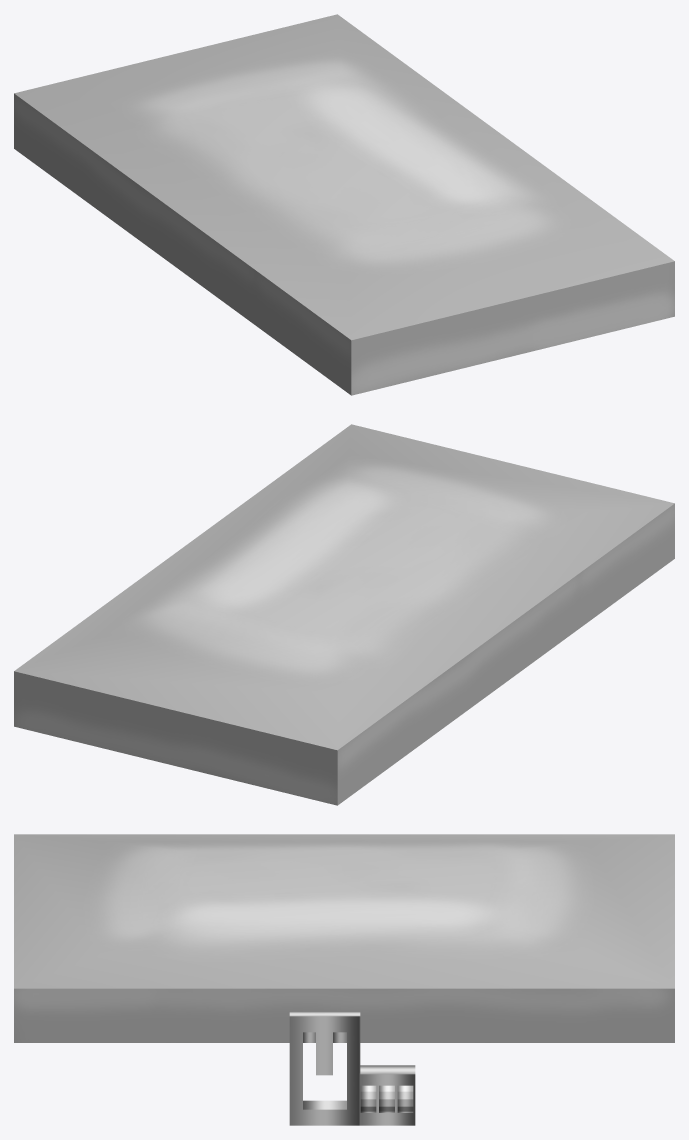
Rendered from LuggageTop.fbx.
The picture shows the model from 3 angles, top to bottom: view 1: azimuth 30°, elevation 25°; view 2: azimuth 150°, elevation 25°; view 3: azimuth 270°, elevation 25°; orthographic projection. The views are drawn at different scales.
Parts seen in each view (by area): view 1: LuggageTop; view 2: LuggageTop; view 3: LuggageTop.
Part boxes in pixels (box(x1,y1,x2,y2)): LuggageTop: box(14, 14, 674, 395); LuggageTop: box(14, 424, 674, 805); LuggageTop: box(14, 834, 674, 1125).
Size of the model in its own units: 1.28 by 0.5602 by 2.18.
